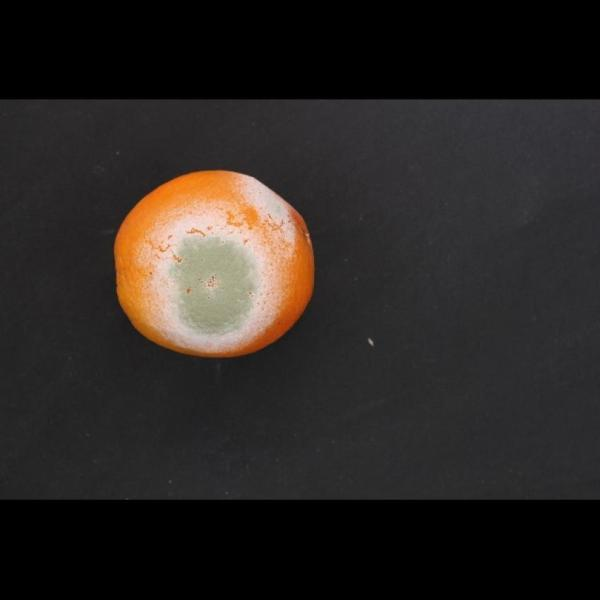Moho verde: (108, 156, 327, 375)
